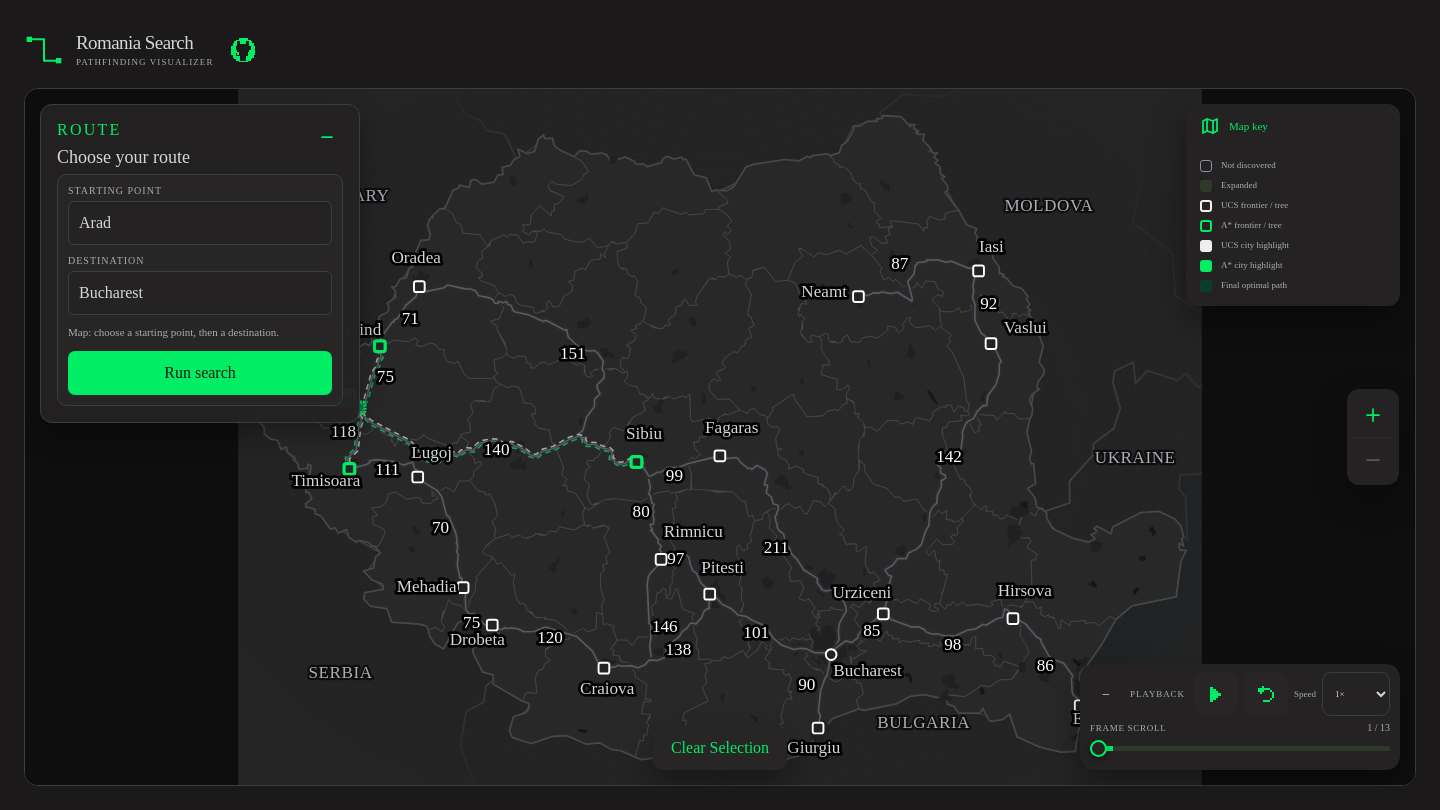
RomaniaSearch › zooms continuously with a two-finger pinch gesture
Press the mouse on the icon named "Animated Romania road graph. Selectable cities set the activ" at (720, 437), box [25,89,1415,785]
Press the mouse on the icon named "Animated Romania road graph. Selectable cities set the activ" at (720, 437), box [25,89,1415,785]
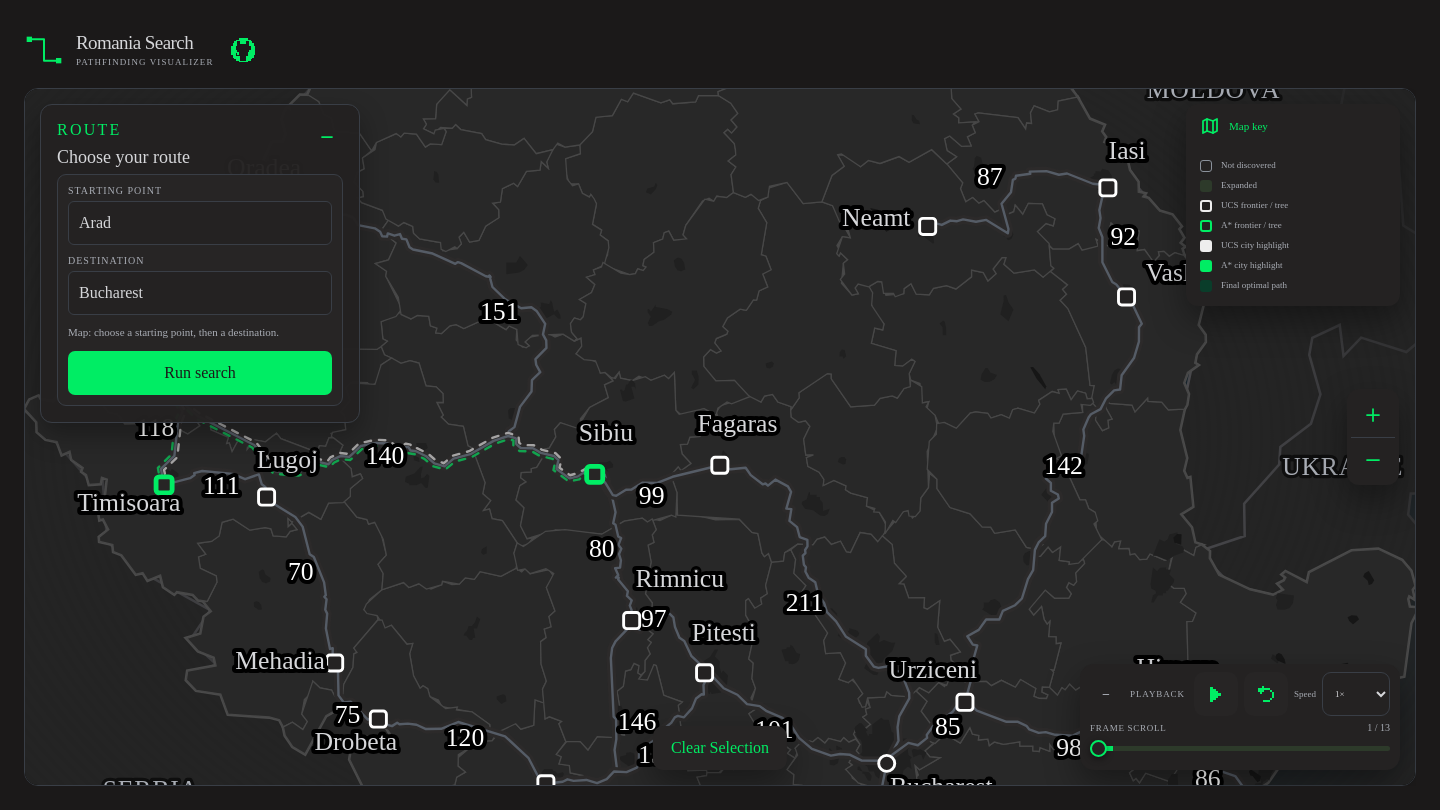
Result: the element named "Map zoom controls, 150%" is shown at [1347,389,1399,485]
